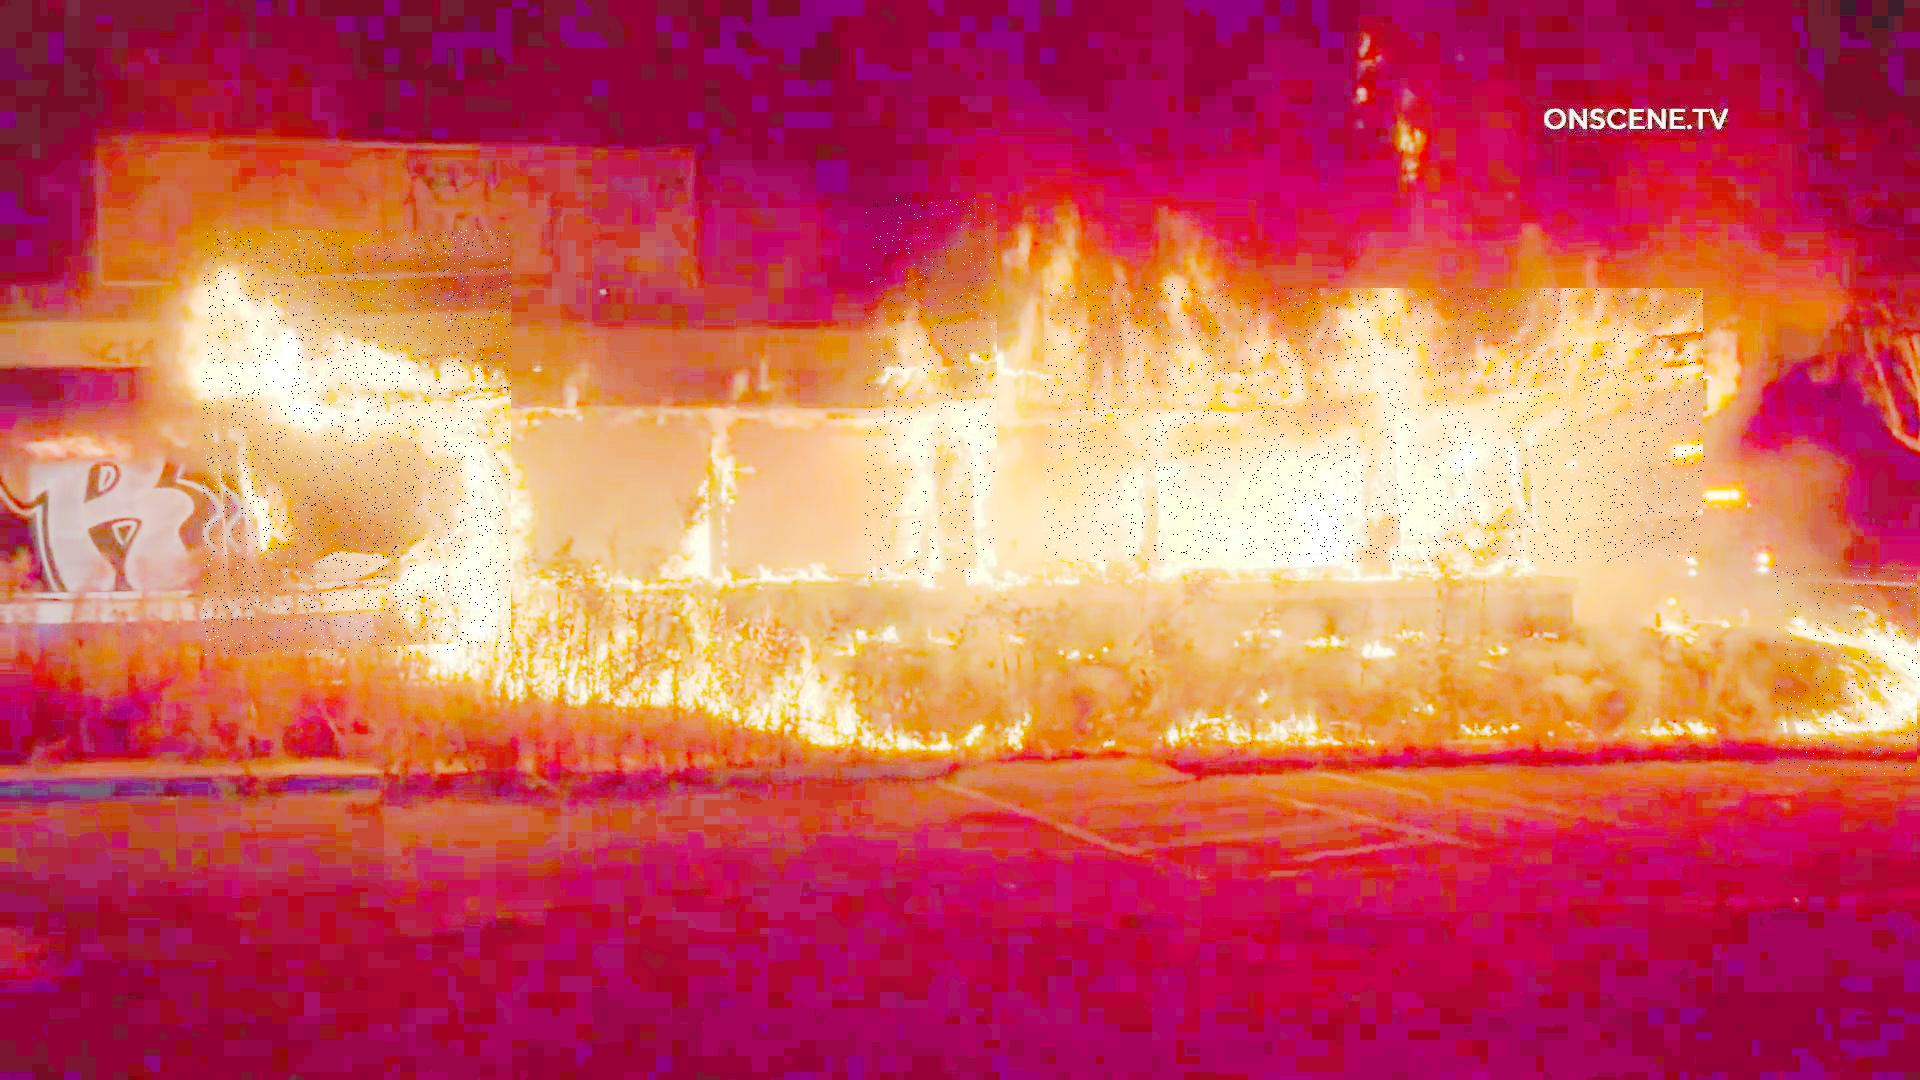fire: (203, 231, 512, 655), (1241, 289, 1705, 562), (1044, 284, 1230, 562), (865, 198, 997, 579), (1776, 563, 1920, 777)
